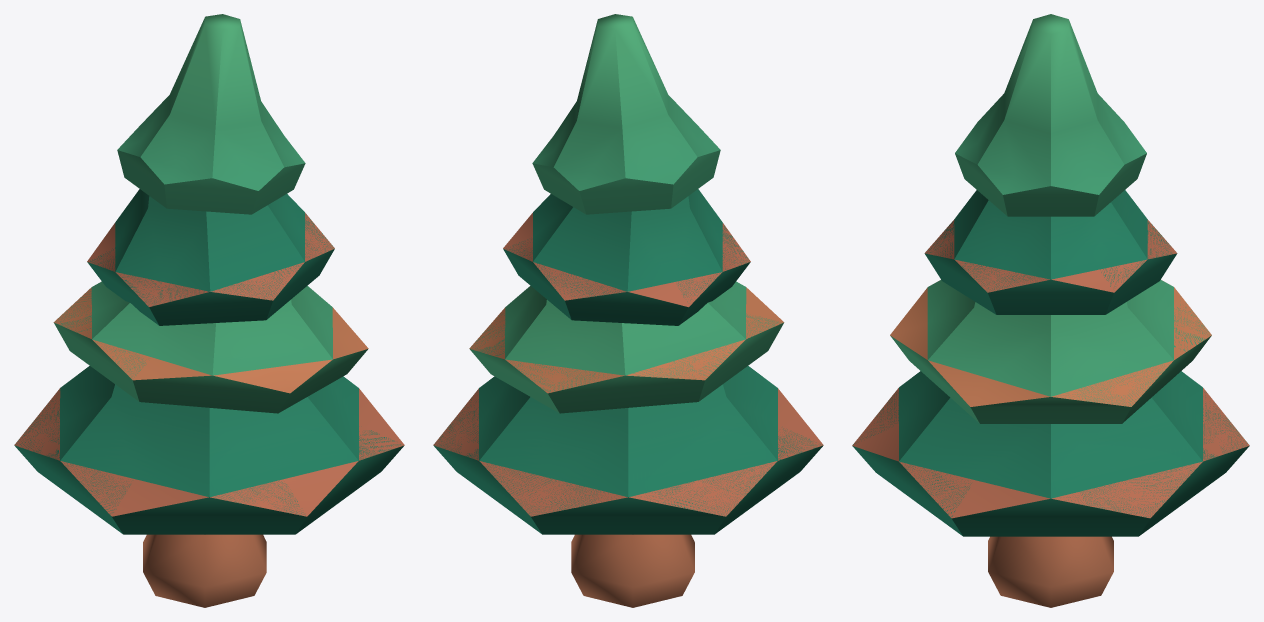
The model's file is pine-crooked.glb.
3 views of the same model, side by side, from view 1: azimuth 30°, elevation 25°; view 2: azimuth 150°, elevation 25°; view 3: azimuth 270°, elevation 25° (orthographic).
Visible parts, largest first — view 1: pine-crooked; view 2: pine-crooked; view 3: pine-crooked.
Boxes of the visible parts, box(x1,y1,x2,y2) form: pine-crooked: box(14, 14, 404, 607); pine-crooked: box(433, 14, 823, 607); pine-crooked: box(852, 14, 1249, 607).
Size of the model in its own units: 1.18 by 2.11 by 1.33.
